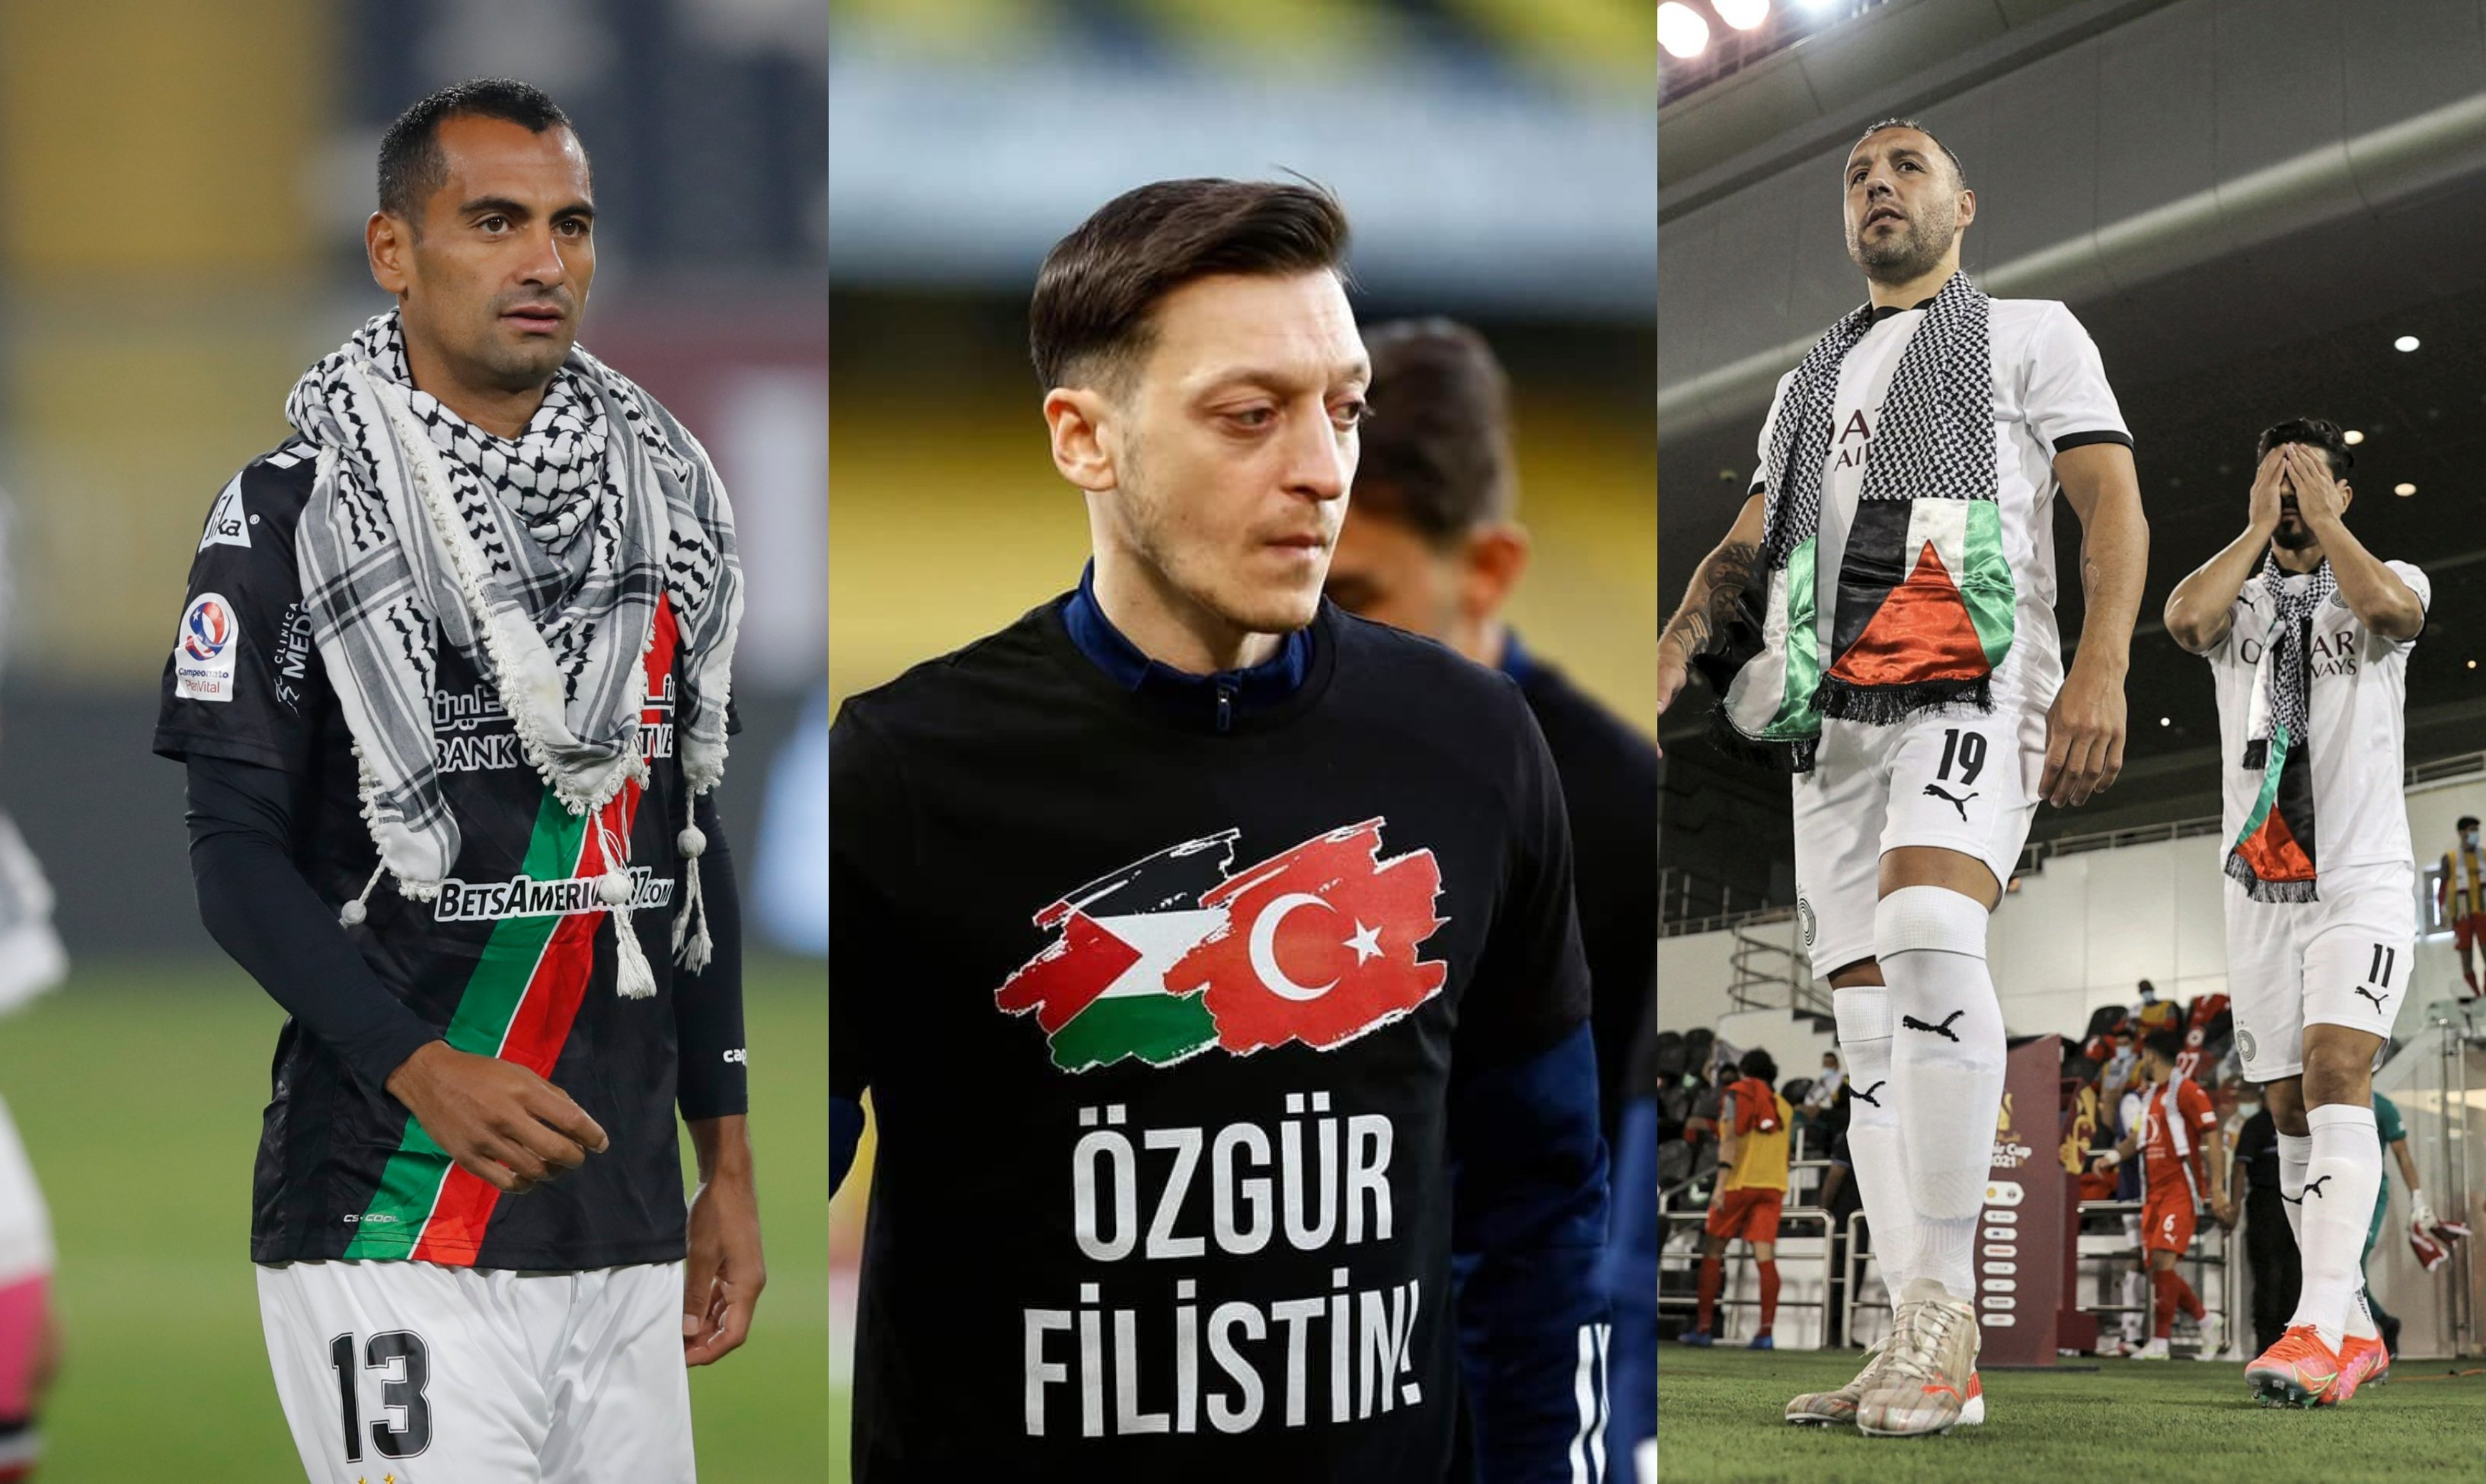NoMask: (1174, 346, 1372, 640), (446, 168, 596, 386), (1845, 145, 1944, 272)
